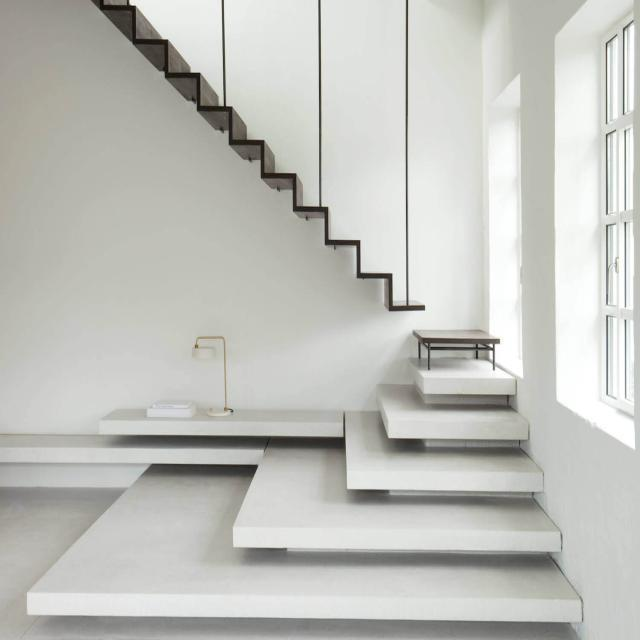stairs: (25, 348, 584, 631)
